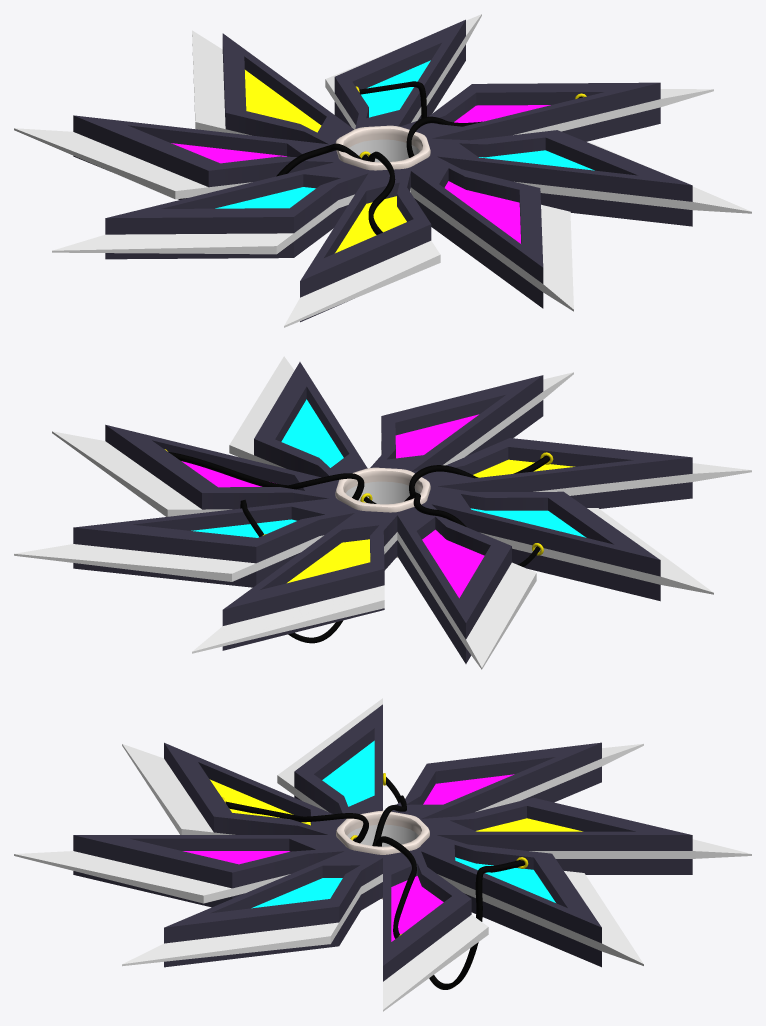
The model's file is Shuriken.fbx.
3 views of the same model, one above another, from view 1: azimuth 30°, elevation 25°; view 2: azimuth 150°, elevation 25°; view 3: azimuth 270°, elevation 25° (orthographic). The views are drawn at different scales.
Visible parts, largest first — view 1: Shuriken, Wire.003, Wire.001, Wire, Wire.002; view 2: Shuriken, Wire.002, Wire.003, Wire.001, Wire; view 3: Shuriken, Wire, Wire.003, Wire.002, Wire.001.
Part boxes in pixels (left/top/right/bottom): Shuriken: left=14, top=14, right=751, bottom=327; Wire.003: left=368, top=151, right=395, bottom=234; Wire.001: left=276, top=143, right=362, bottom=176; Wire: left=359, top=81, right=426, bottom=160; Wire.002: left=406, top=96, right=582, bottom=157; Shuriken: left=14, top=356, right=751, bottom=669; Wire.002: left=168, top=452, right=364, bottom=500; Wire.003: left=409, top=456, right=549, bottom=495; Wire.001: left=363, top=492, right=540, bottom=566; Wire: left=240, top=499, right=343, bottom=643; Shuriken: left=14, top=698, right=751, bottom=1011; Wire: left=429, top=860, right=524, bottom=989; Wire.003: left=225, top=801, right=368, bottom=843; Wire.002: left=375, top=836, right=416, bottom=938; Wire.001: left=372, top=777, right=406, bottom=846.
Bounding box in the file's own units: 337 × 73.86 × 337.
